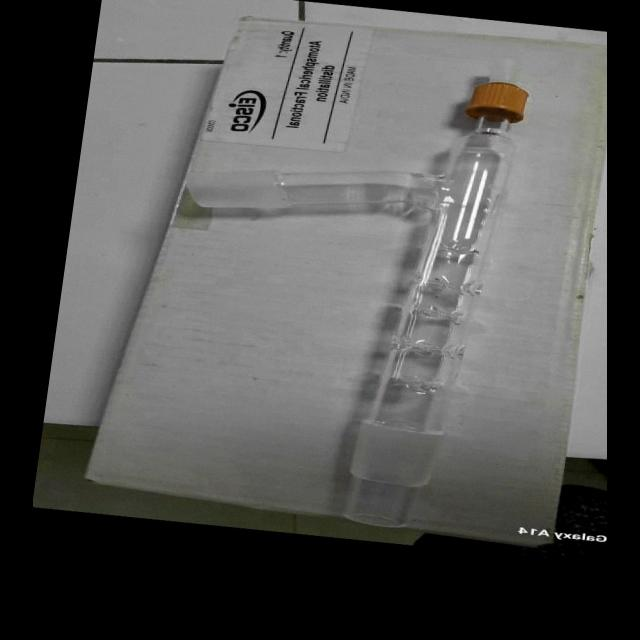Atmospherical Fractional Distillation: (138, 32, 558, 542)
